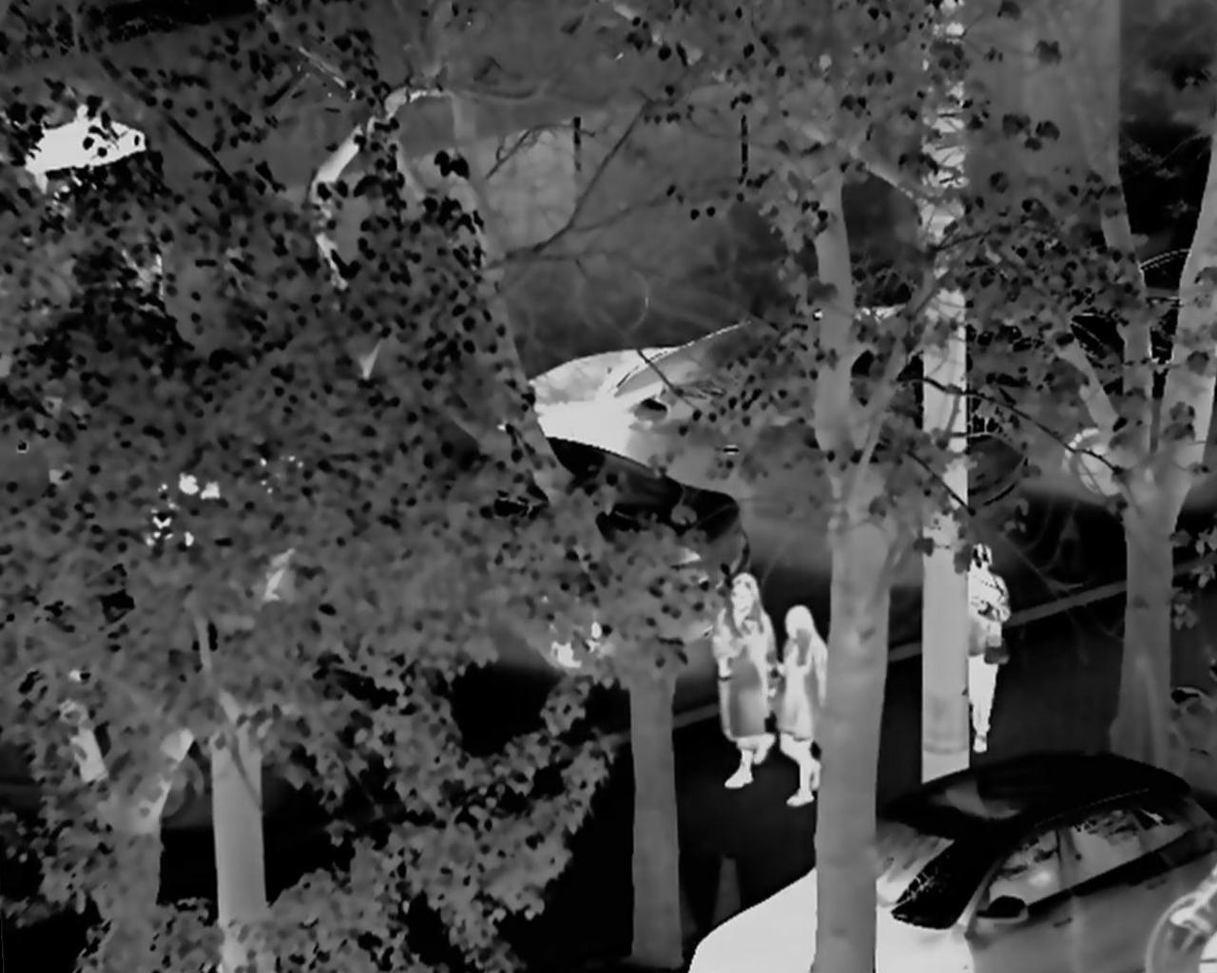person: (698, 562, 778, 799), (760, 602, 844, 810), (955, 539, 1008, 760)
